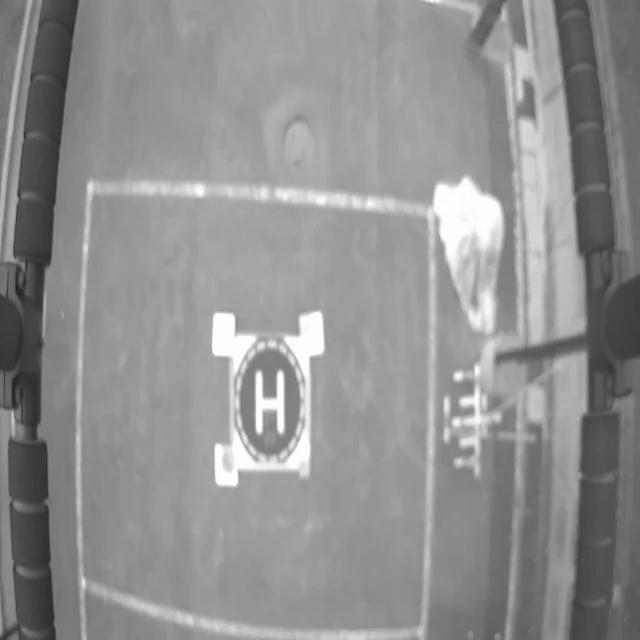Helipad: (256, 369, 286, 436)
